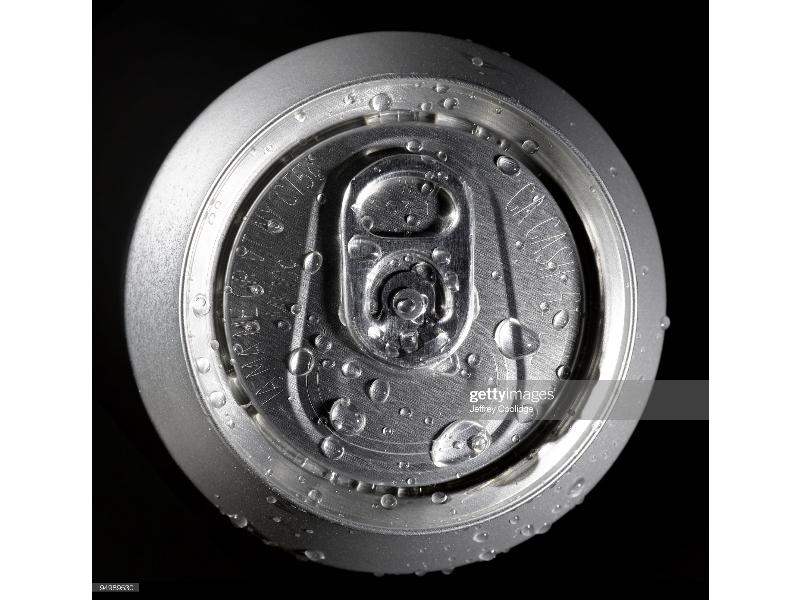can: (123, 24, 673, 579)
